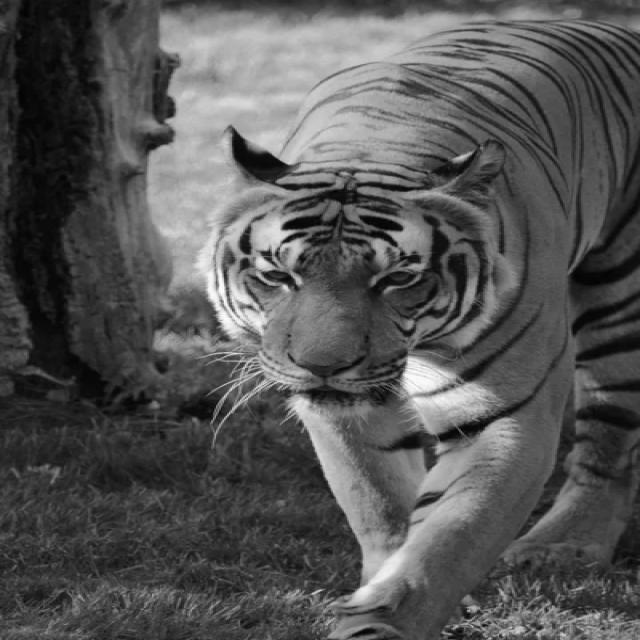Animal: (200, 21, 640, 640)
